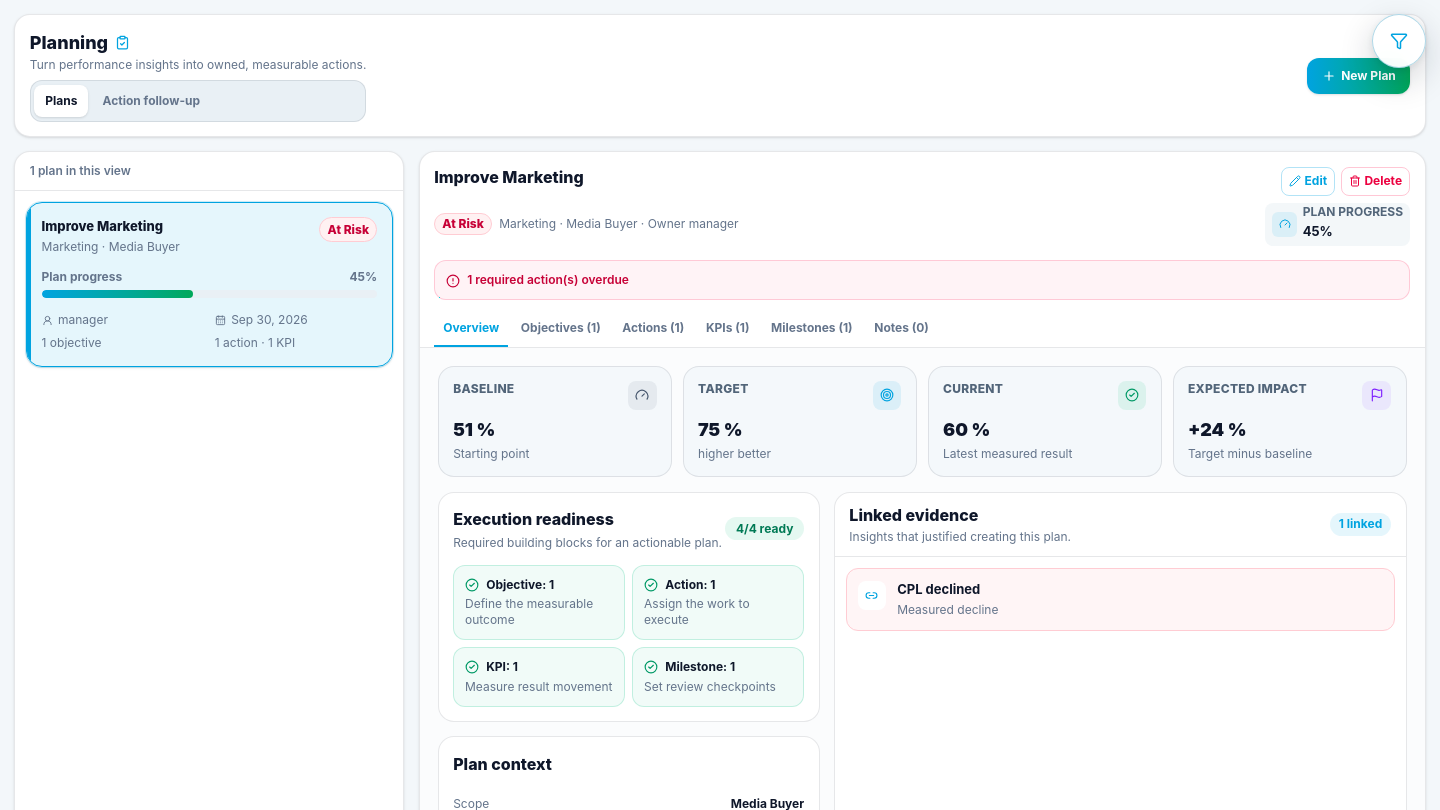
Test: PlanningView › renders the execution-first overview and plan tabs
Check: the heading "Planning" is shown, box [30,30,108,55]
Check: the heading "Improve Marketing" below "in this view" is shown, box [42,218,163,234]
Click the button "KPIs (1)": (728, 329) [697,311,758,347]
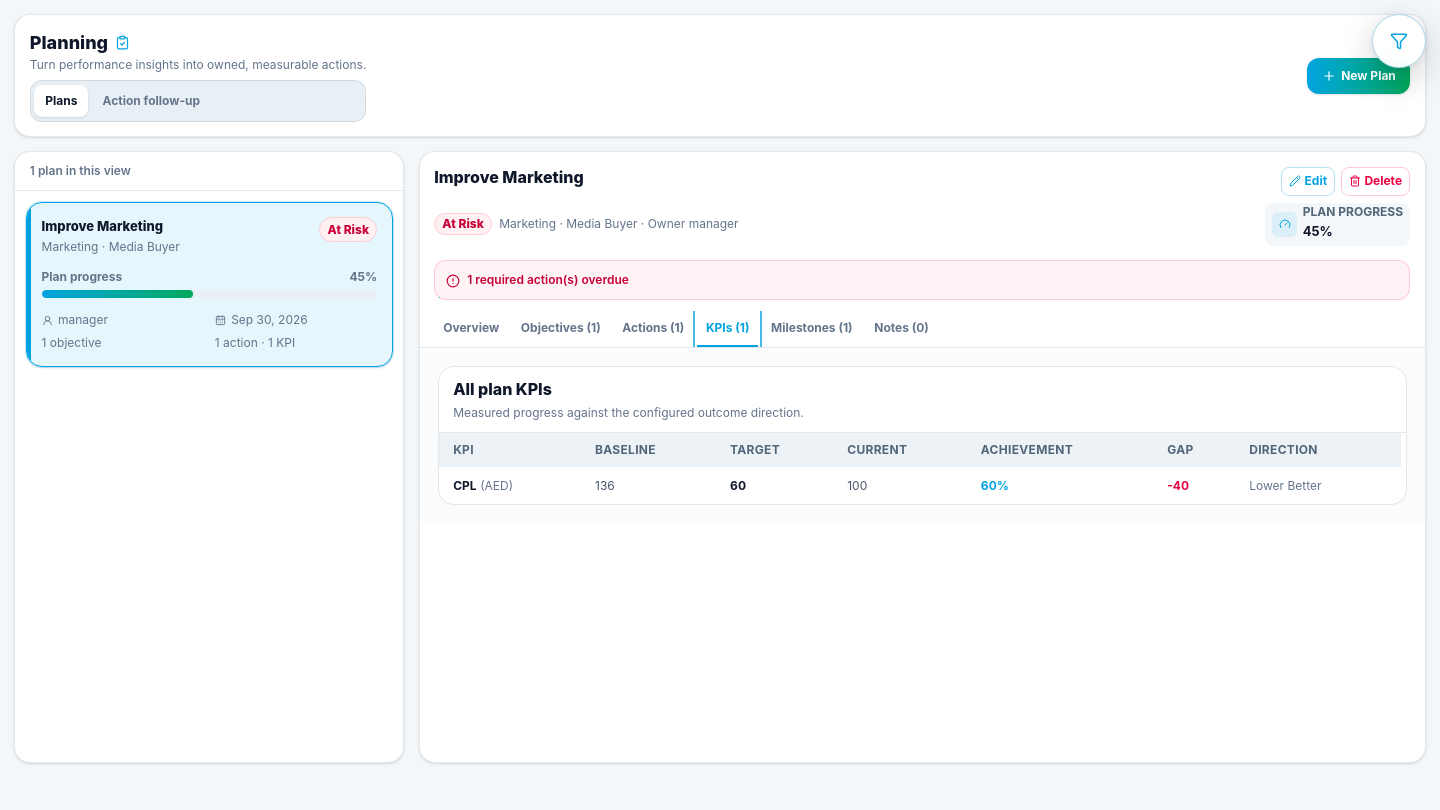
Check: the text "CPL" is shown, box [453,478,477,493]
Check: the heading "All plan KPIs" is shown, box [453,380,552,400]
